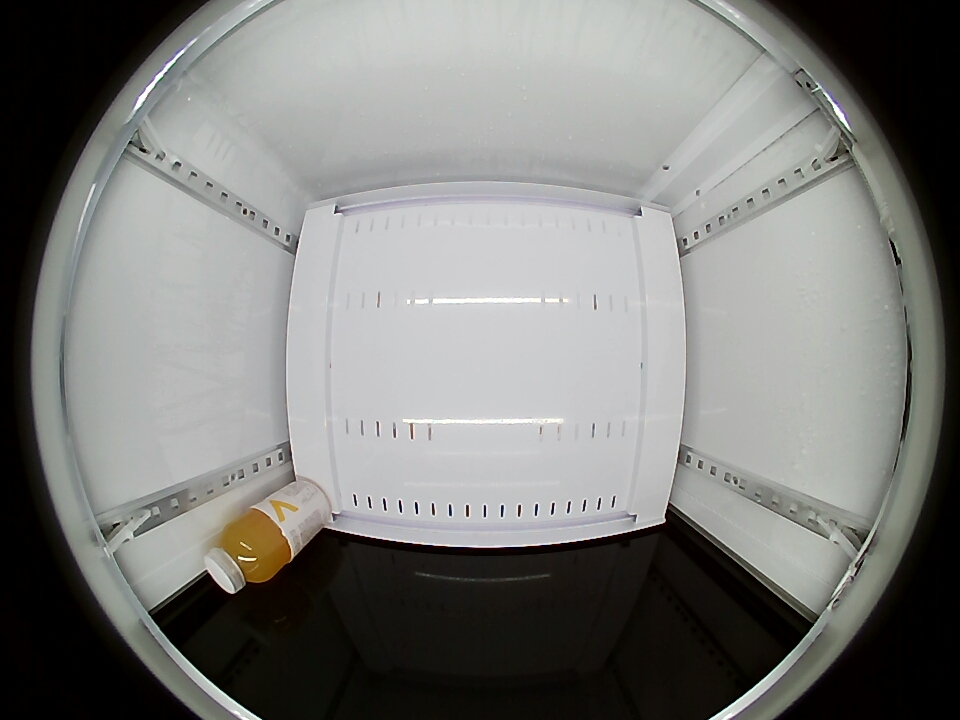weic: (204, 509, 291, 594)
